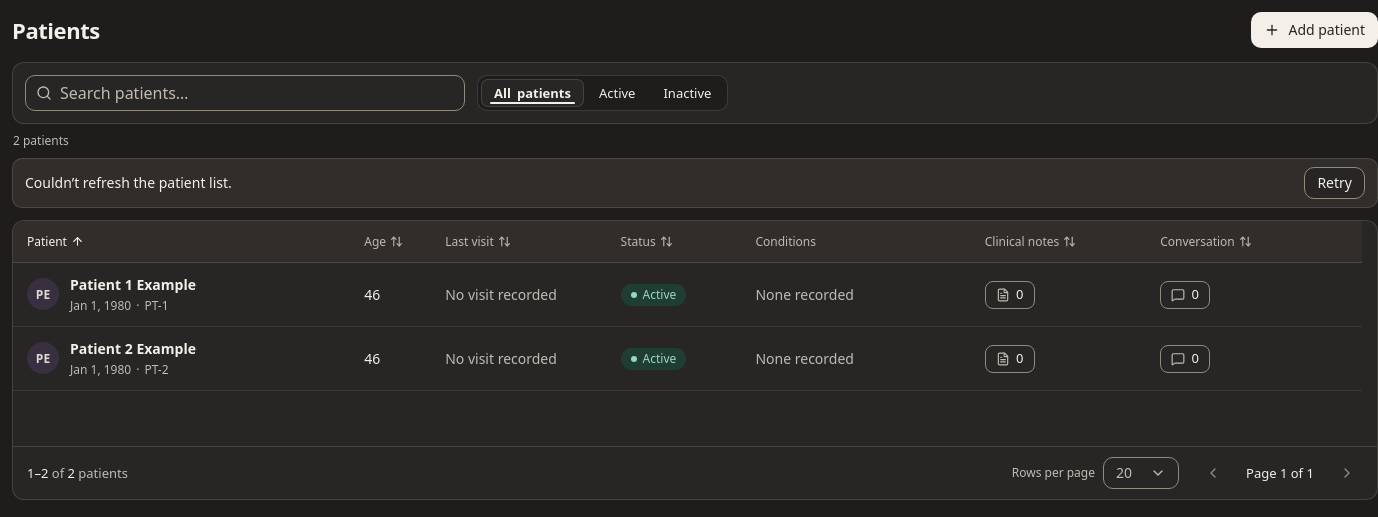
Test case: patient list states › keeps the last good page and pagination when a background refresh fails
This screenshot has width=1378, height=517.
Expected: the table shows "Patient 1 Example", [70,275,196,295]
Expected: the button named "Next page" is shown, [1331,457,1363,489]
Step 1. Click the button "Retry" → (1335, 183), box [1304,167,1365,199]
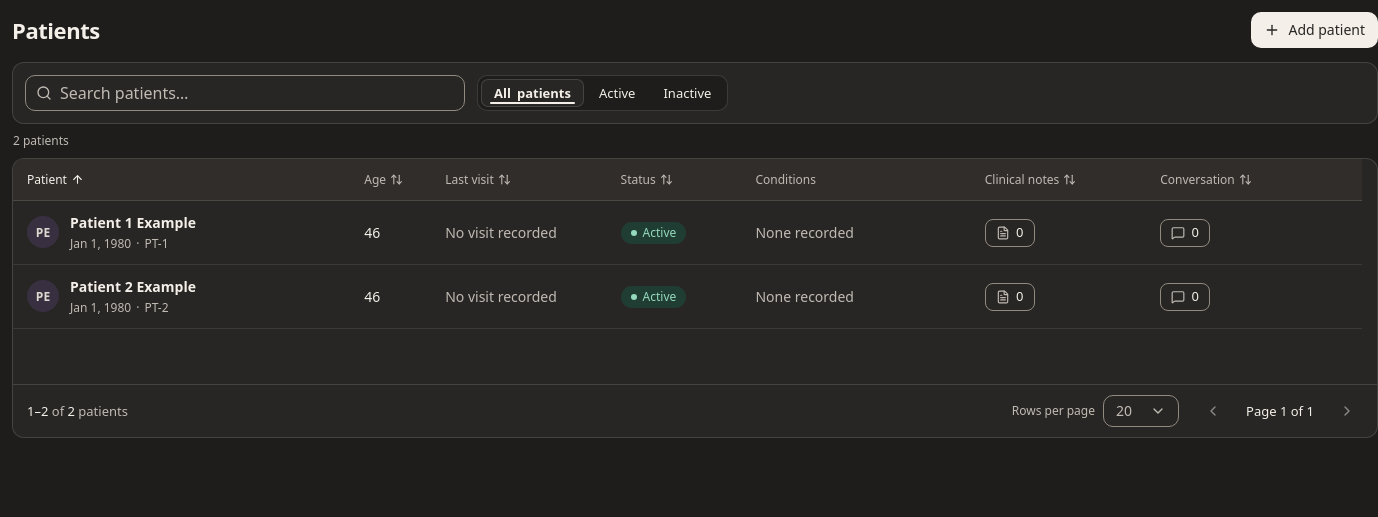
Expected: the table shows "Patient 1 Example", [70,213,196,233]
Expected: the button "Retry" is gone
